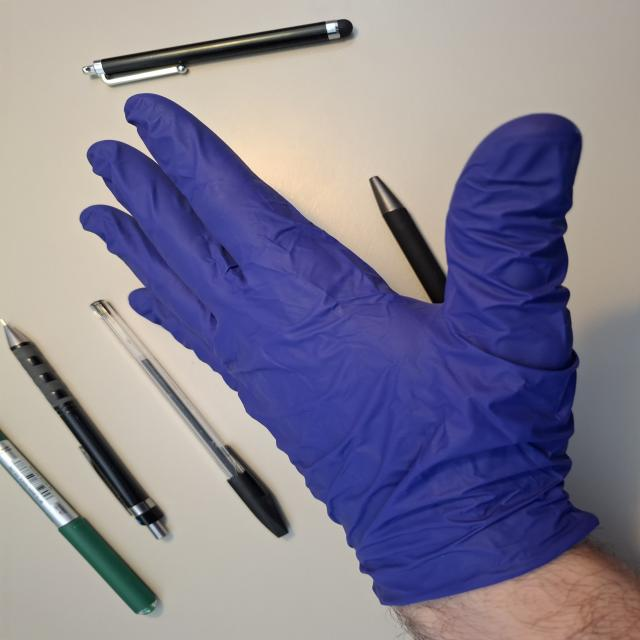glove_on: (76, 90, 603, 611)
